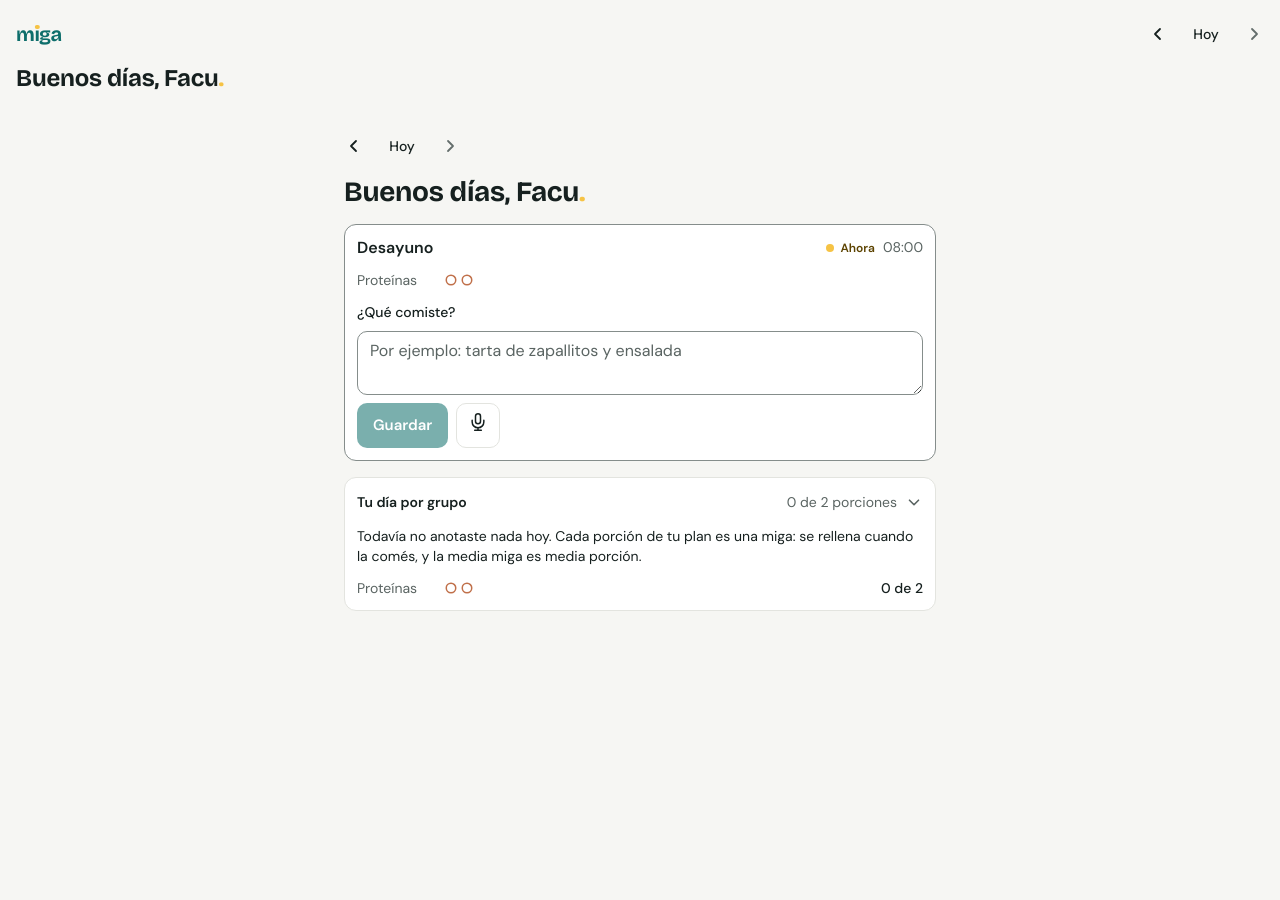
Test: no duplica las menciones que ya generaron ítems
Expected: the heading "Desayuno" is shown, [357, 236, 433, 258]
Type "1 barrita" into the text box labelled "¿Qué comiste?" at [640, 363], box [357, 331, 923, 395]
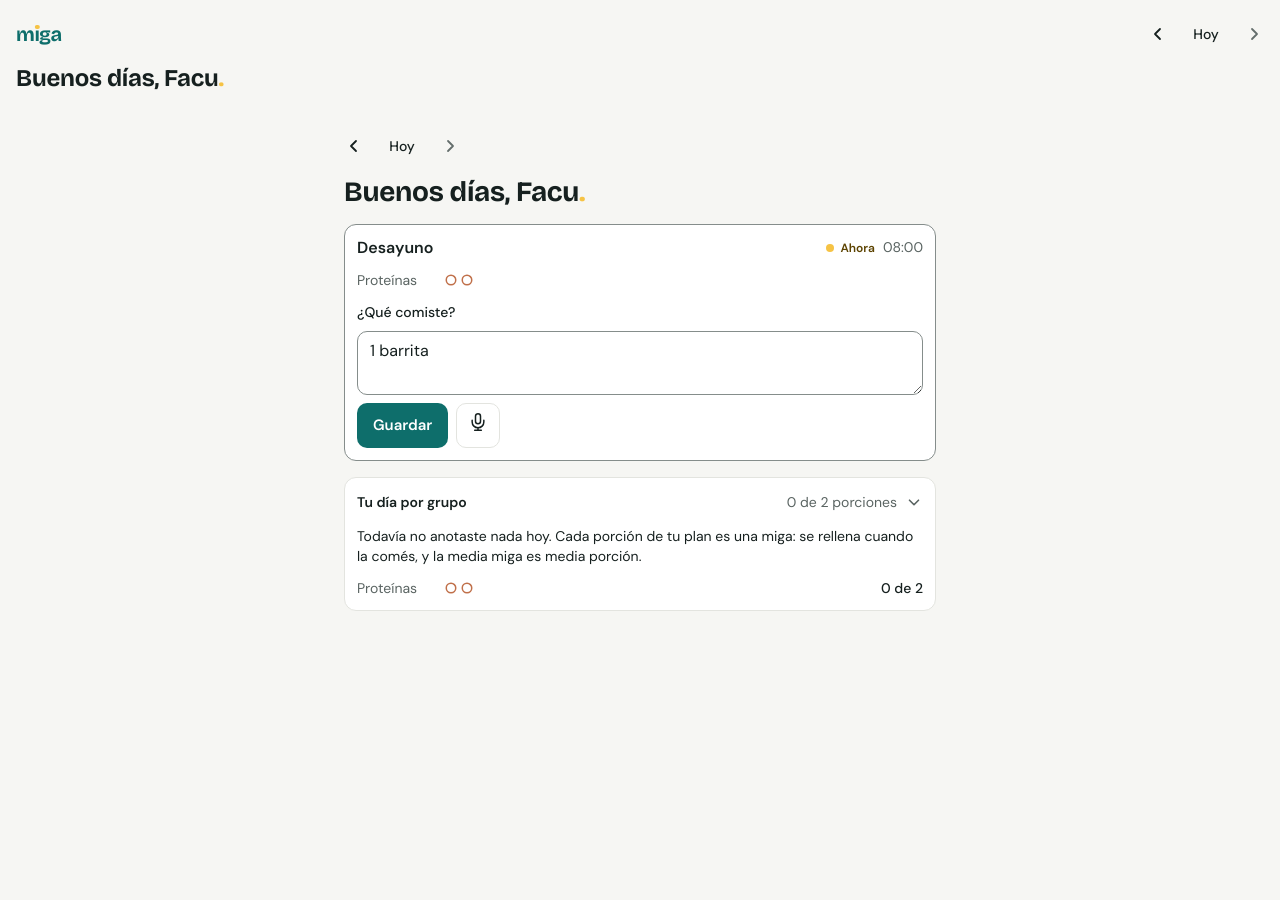
Click the button "Guardar" at [403, 426], box [357, 403, 448, 448]
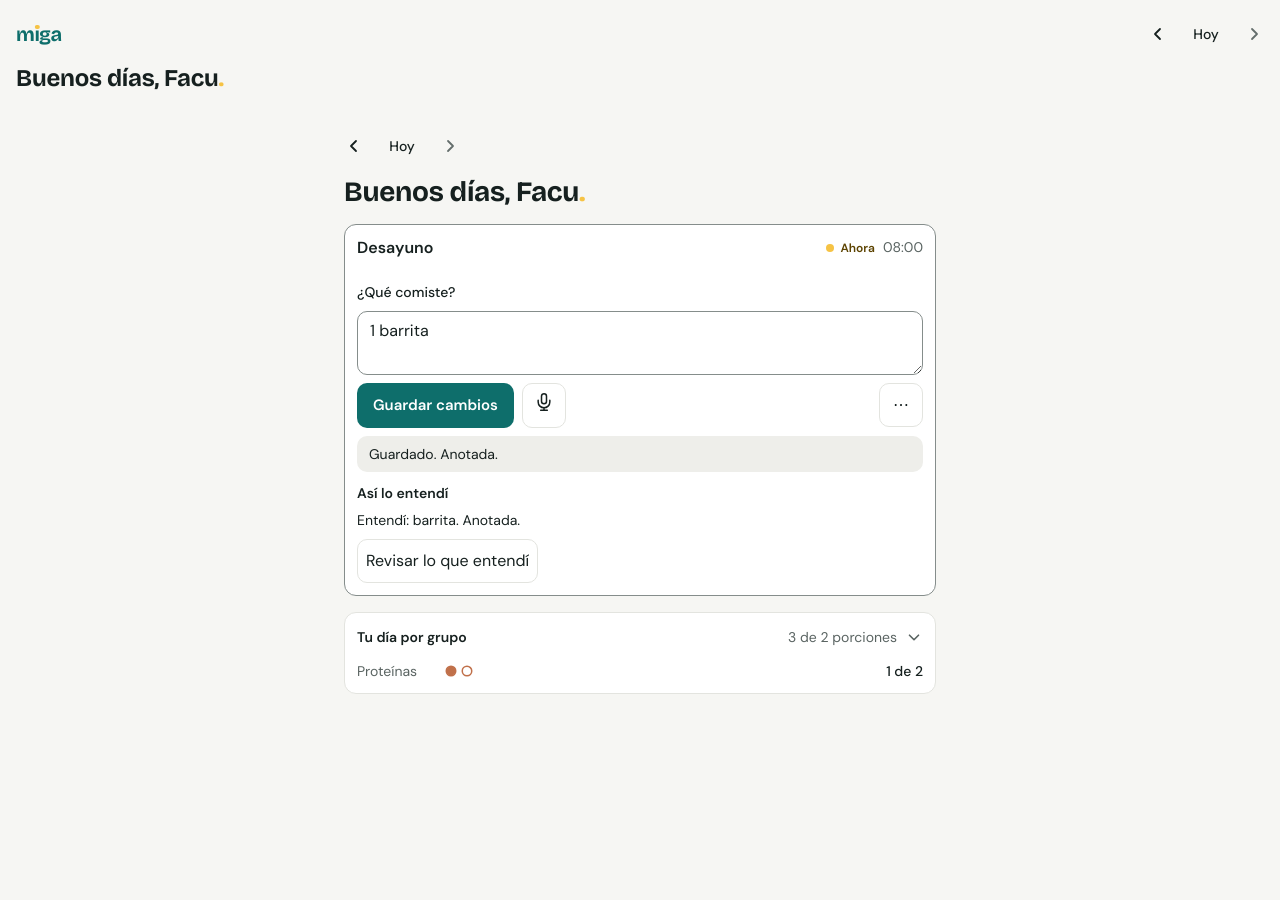
Expected: the heading "Así lo entendí" is shown, [357, 484, 448, 502]
Click the button "Revisar lo que entendí" at [448, 561], box [357, 539, 538, 583]
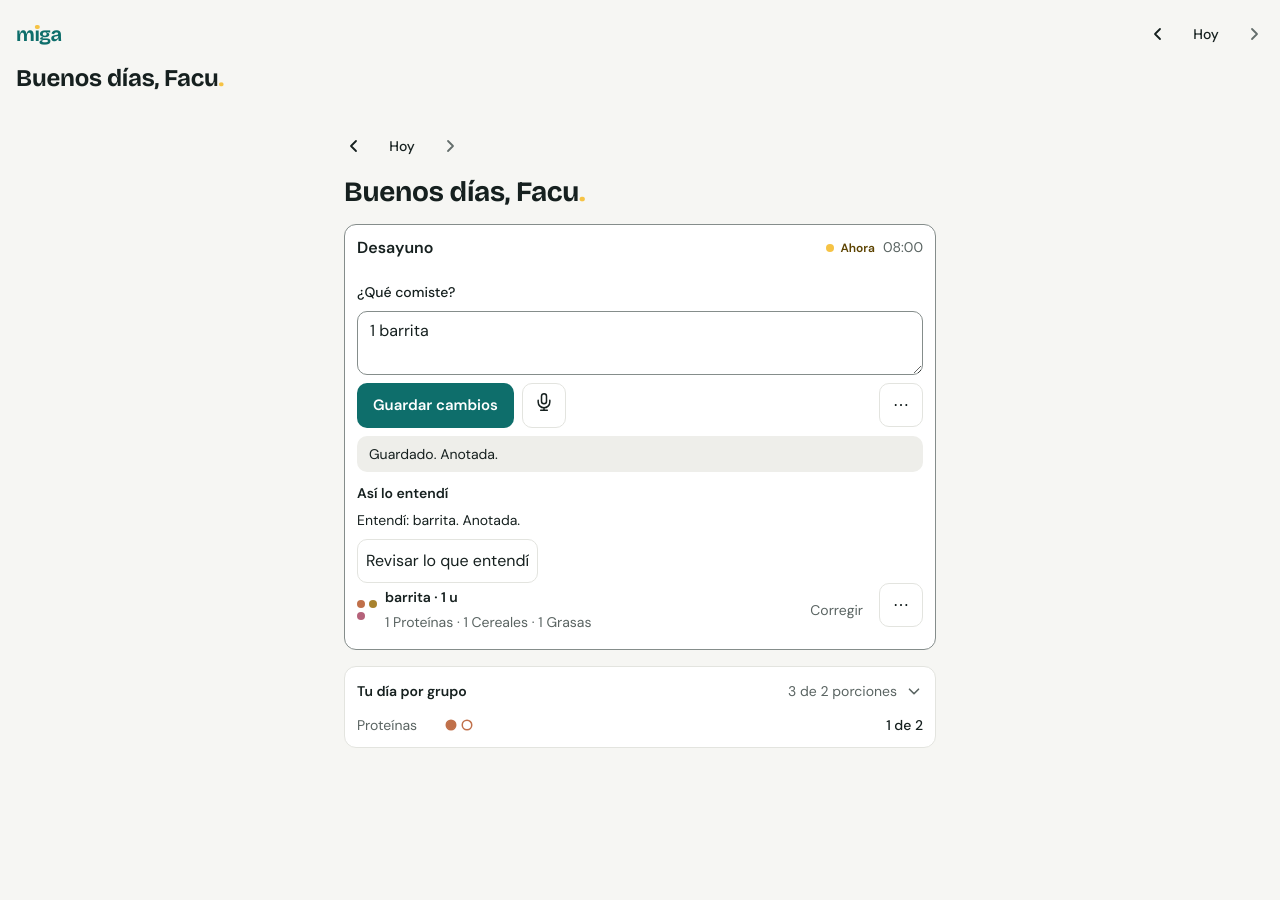
Click the button named "Más opciones de barrita" at [901, 605], box [879, 583, 923, 627]
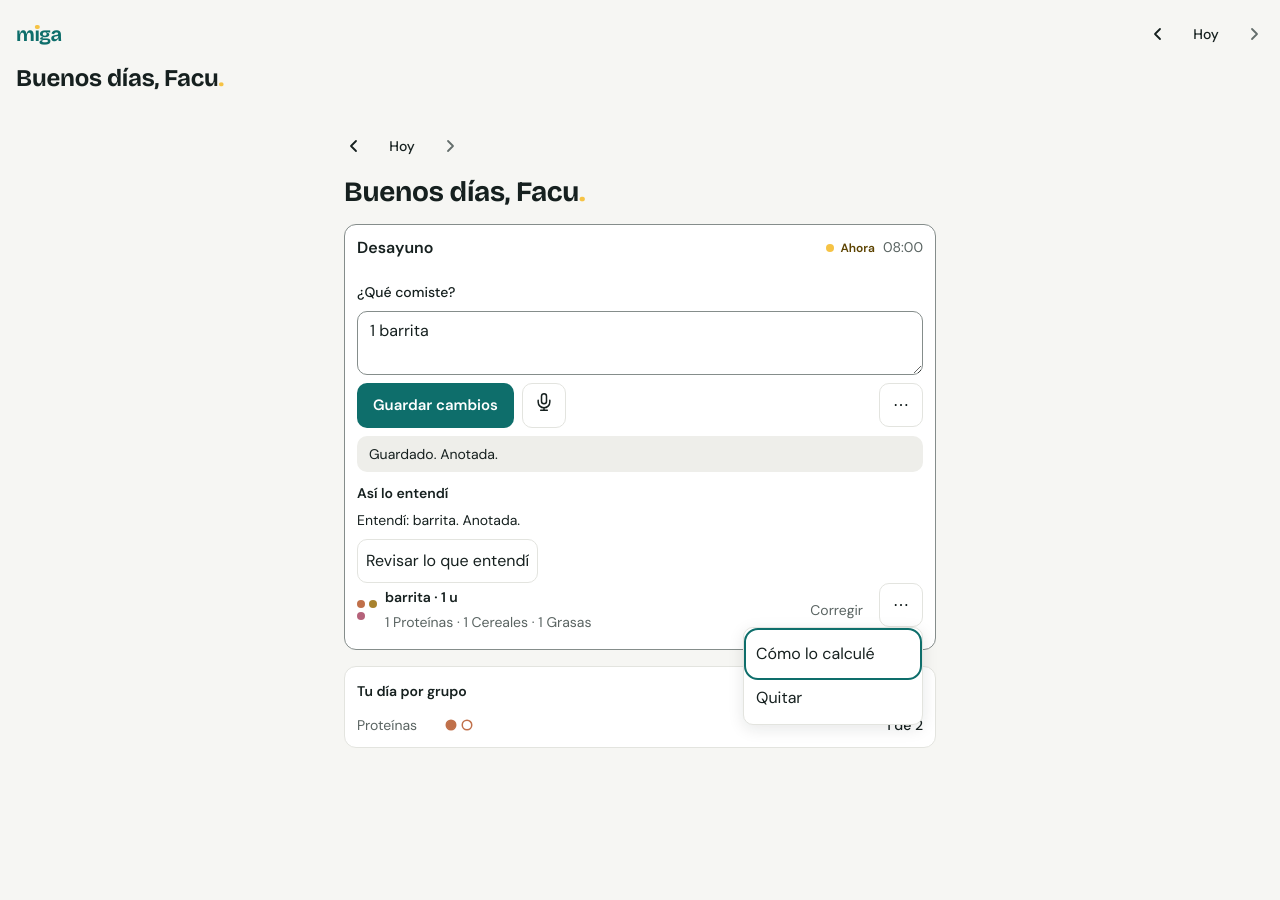
Click the menu item "Cómo lo calculé" at [833, 654], box [748, 632, 918, 676]
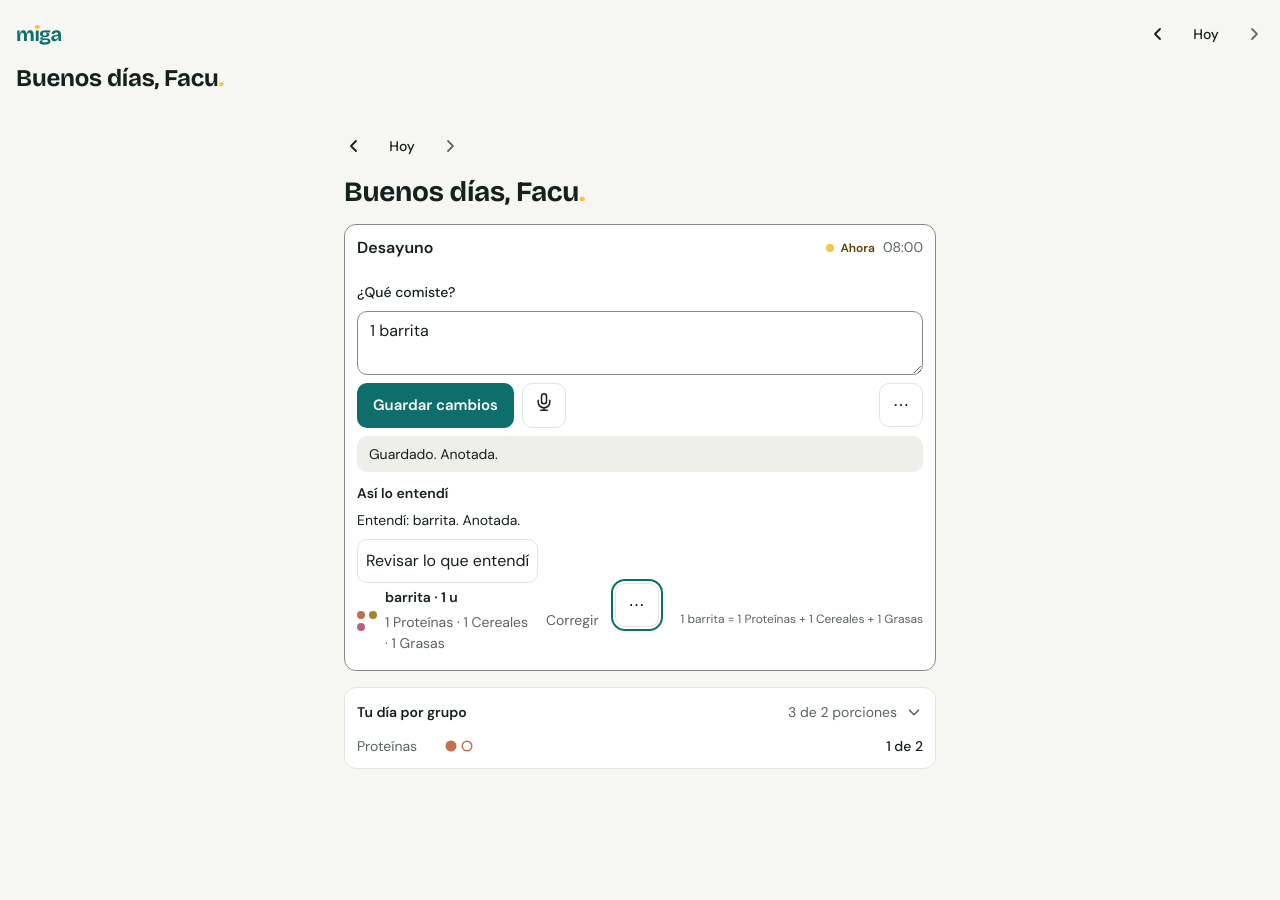
Expected: the text "1 barrita = 1 Proteínas + 1 Cereales + 1 Grasas" is shown once, [681, 610, 923, 628]
